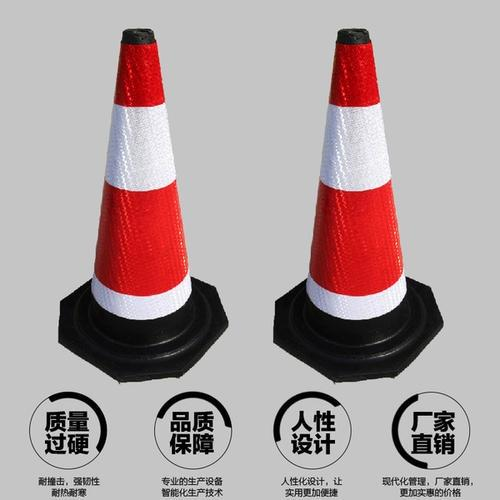cone_barrel: (59, 31, 219, 366), (271, 34, 431, 365)
